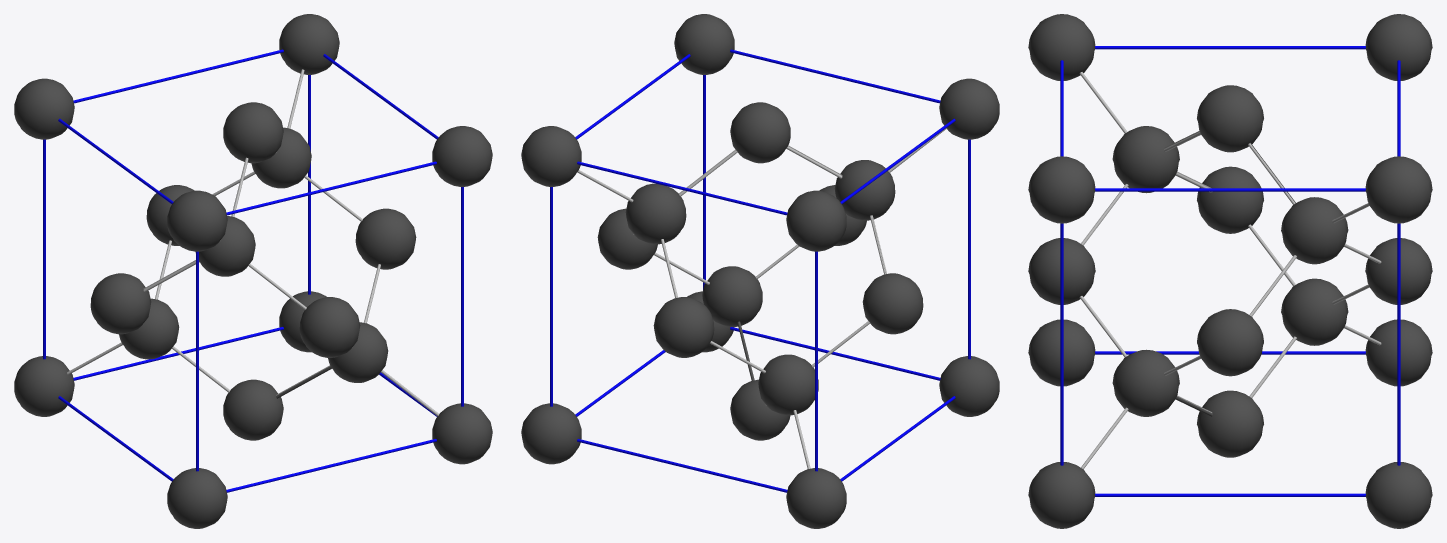
File: Kristallgitter.glb
The picture shows the model from 3 angles, left to right: view 1: azimuth 30°, elevation 25°; view 2: azimuth 150°, elevation 25°; view 3: azimuth 270°, elevation 25°; orthographic projection. The views are drawn at different scales.
Visible parts, largest first — view 1: 125, 78, 74, 68, 6C, E7, EB, EF, 70, 121, 80, E3 (+14 smaller); view 2: 68, E7, 121, 64, 80, E3, 7C, F4, 125, 74, EB, AC (+14 smaller); view 3: E3, EB, EF, E7, 70, 7C, CE, AC, F4, 121, 6C, 125 (+12 smaller).
Boxes of the visible parts, box(x1,y1,x2,y2) form: 125: box(167, 190, 227, 251); 78: box(299, 297, 360, 357); 74: box(167, 468, 227, 528); 68: box(90, 273, 151, 334); 6C: box(223, 379, 283, 440); E7: box(223, 102, 283, 163); EB: box(432, 126, 492, 186); EF: box(355, 208, 416, 269); 70: box(432, 403, 492, 464); 121: box(14, 78, 74, 139); 80: box(14, 356, 74, 416); E3: box(279, 14, 339, 74); 68: box(862, 273, 923, 334); E7: box(730, 102, 790, 163); 121: box(786, 190, 846, 251); 64: box(653, 297, 714, 357); 80: box(786, 468, 846, 528); E3: box(521, 126, 581, 186); 7C: box(521, 403, 581, 464); F4: box(625, 183, 686, 244); 125: box(939, 78, 999, 139); 74: box(939, 356, 999, 416); EB: box(674, 14, 734, 74); AC: box(702, 266, 762, 326); E3: box(1365, 156, 1432, 223); EB: box(1028, 156, 1095, 223); EF: box(1197, 309, 1263, 376); E7: box(1197, 85, 1263, 152); 70: box(1028, 462, 1095, 528); 7C: box(1365, 462, 1432, 528); CE: box(1281, 278, 1348, 345); AC: box(1112, 349, 1179, 416); F4: box(1281, 197, 1348, 264); 121: box(1365, 14, 1432, 80); 6C: box(1197, 390, 1263, 457); 125: box(1028, 14, 1095, 80).
Bounding box in the file's own units: 12 × 12 × 12.
